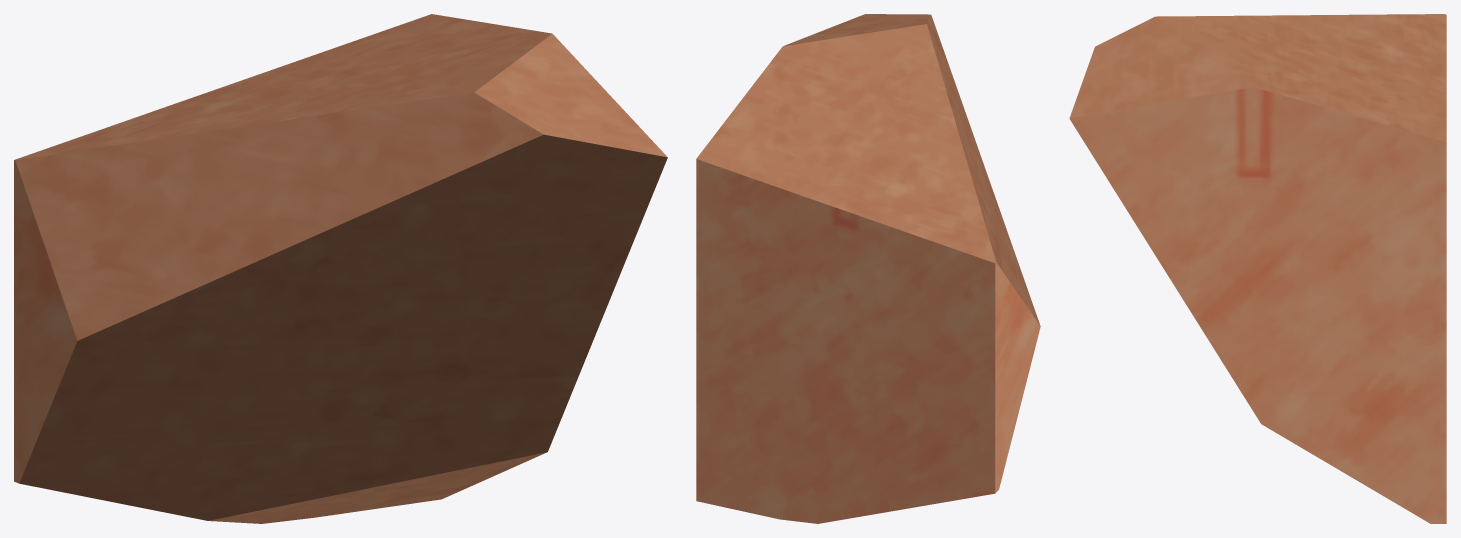
The model's file is townwall_tower_s06.fbx.
3 renders of one model, left to right at view 1: azimuth 30°, elevation 25°; view 2: azimuth 150°, elevation 25°; view 3: azimuth 270°, elevation 25°, orthographic. The views are drawn at different scales.
Parts seen in each view (by area): view 1: townwall_tower_s06; view 2: townwall_tower_s06; view 3: townwall_tower_s06.
Part boxes in pixels (box(x1,y1,x2,y2)): townwall_tower_s06: box(14, 14, 667, 523); townwall_tower_s06: box(696, 14, 1040, 523); townwall_tower_s06: box(1069, 14, 1446, 523).
Size of the model in its own units: 6.6 by 8.56 by 6.46.
